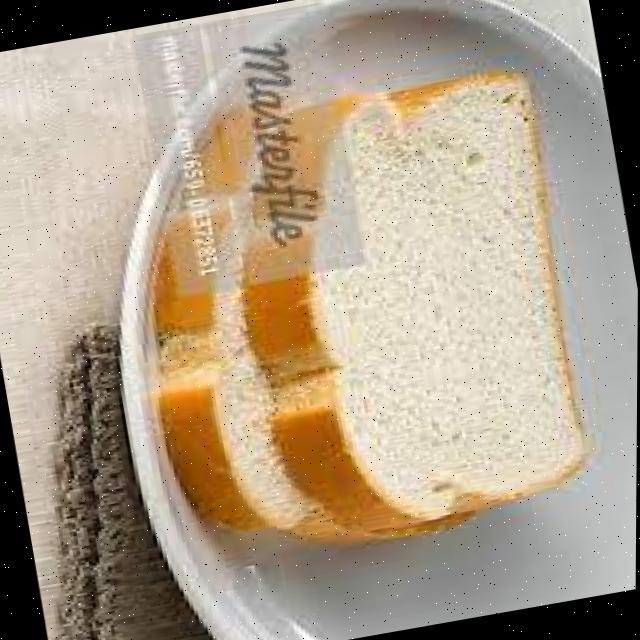Bread: (249, 74, 579, 541), (152, 197, 312, 532)
